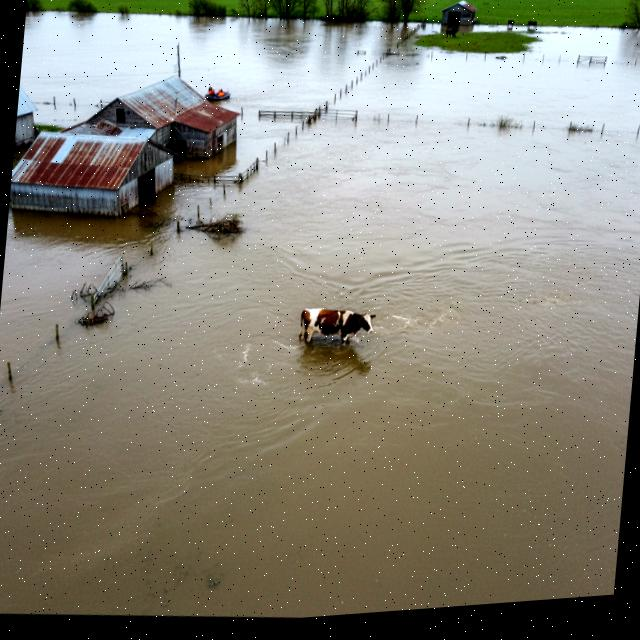cow: (292, 287, 386, 363), (442, 24, 459, 41), (525, 17, 540, 31), (504, 15, 516, 28)
rescuer: (206, 85, 216, 98)
